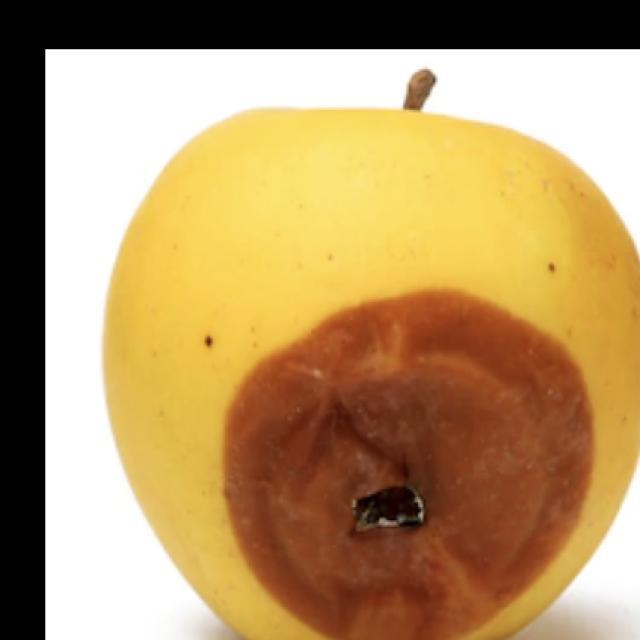Rotten: (105, 110, 640, 640)
